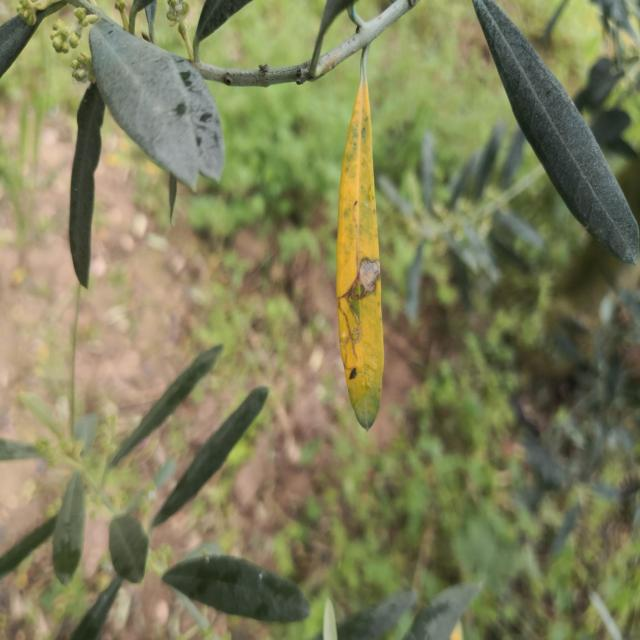Peacock Eye: (337, 49, 384, 429)
